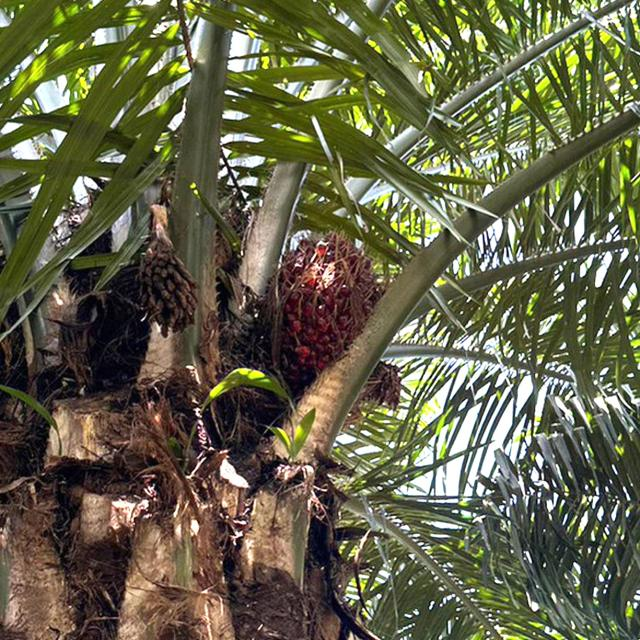ripe: (276, 222, 392, 386)
